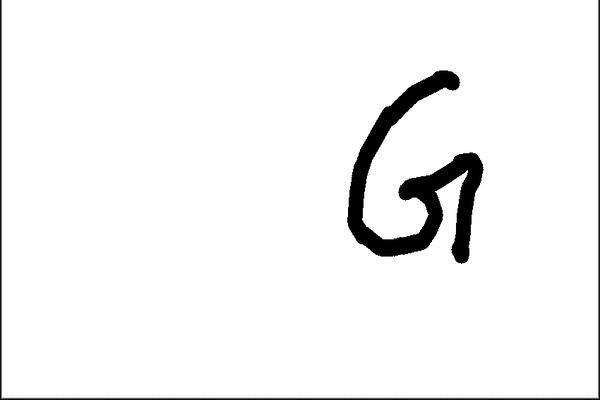G: (342, 65, 487, 267)
